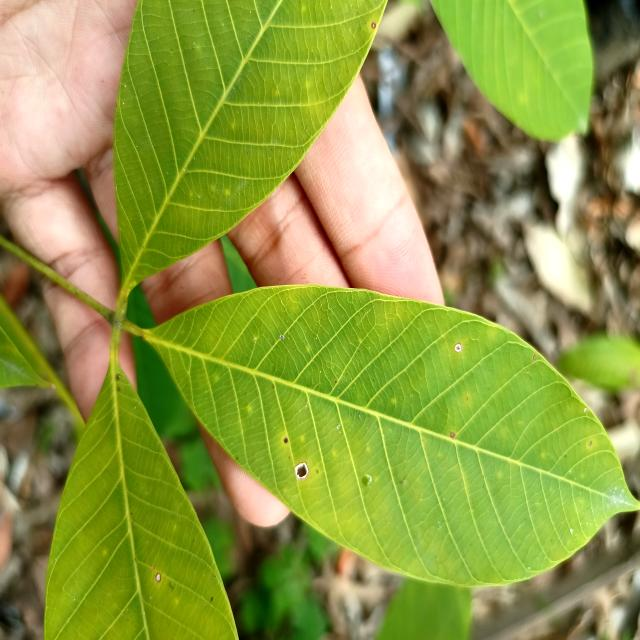Colletotrichum: (295, 461, 309, 479), (454, 342, 461, 352), (156, 573, 161, 582), (450, 432, 455, 437), (284, 438, 288, 443)
